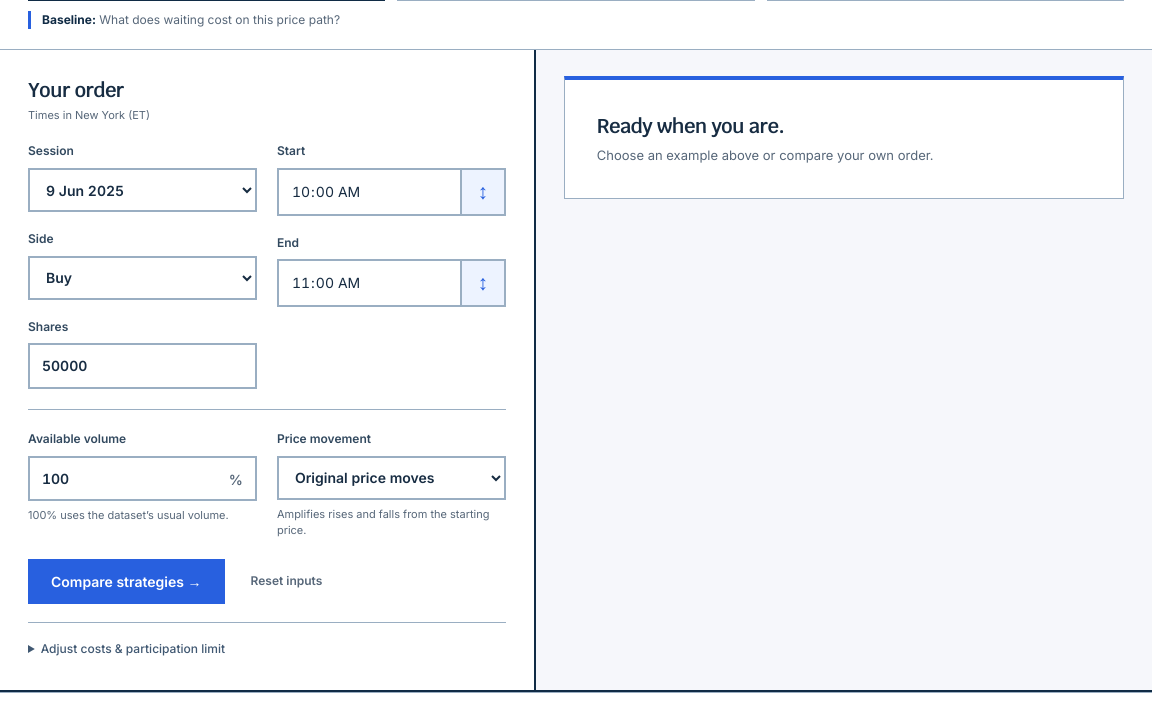
Test: reset cancels a pending run and restores the baseline controls
The image size is (1152, 714).
(page scrolled)
expect the button "Compare strategies →" is enabled: met, box top-left (28, 558), bottom-right (224, 604)
Replace the text in the number field labelled "Shares" with "200000". click: (142, 366)
box: top-left (28, 343), bottom-right (257, 389)
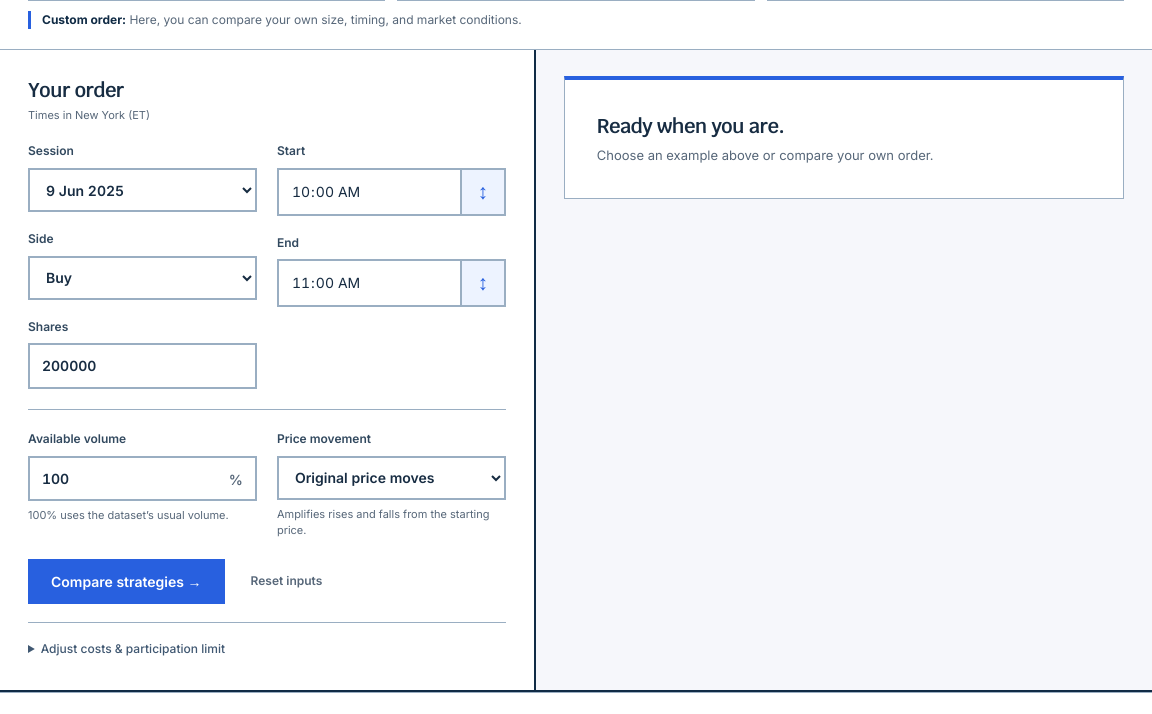
Click the button "Compare strategies →". click: (126, 581)
box: top-left (28, 558), bottom-right (224, 604)
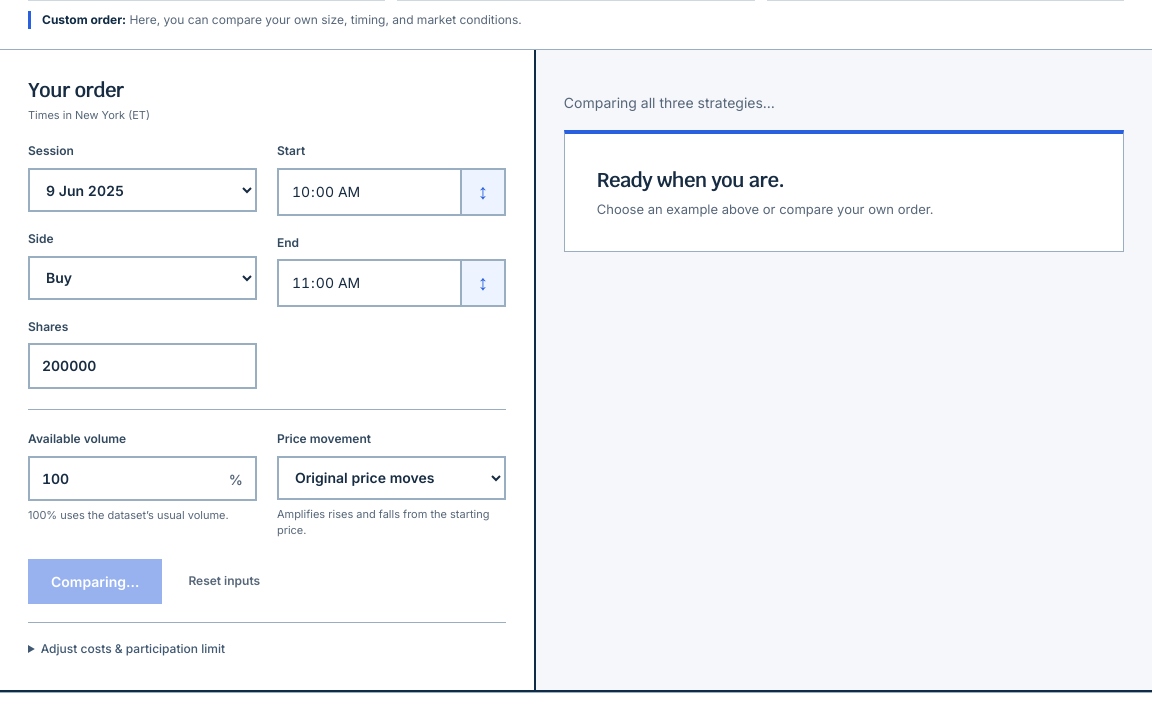
Click the button "Reset inputs". click: (224, 581)
box: top-left (180, 560), bottom-right (268, 602)
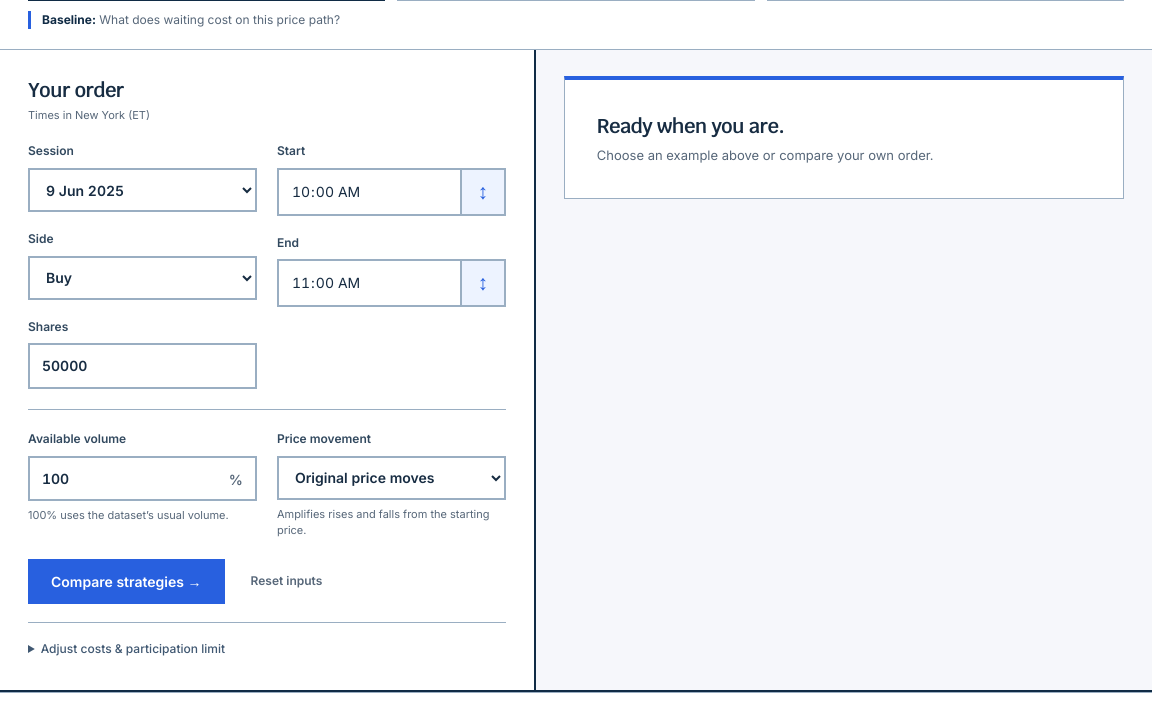
expect the number field labelled "Shares" holds "50000": met, box top-left (28, 343), bottom-right (257, 389)
